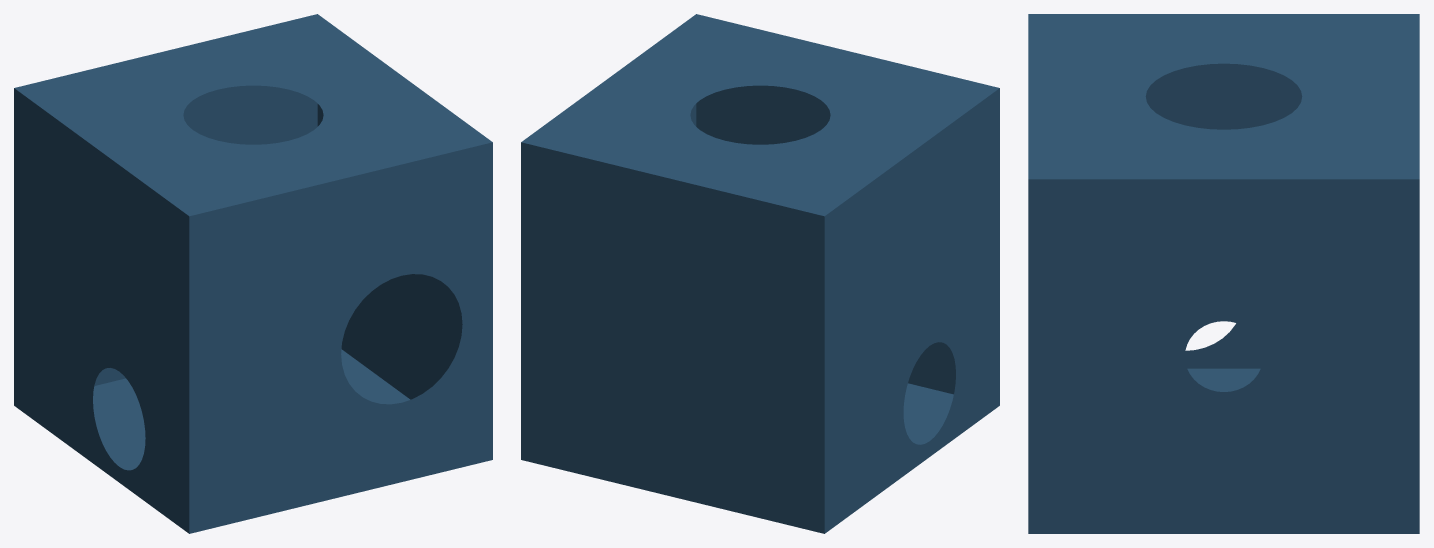
Rendered from Walls.fbx.
3 renders of one model, left to right at view 1: azimuth 30°, elevation 25°; view 2: azimuth 150°, elevation 25°; view 3: azimuth 270°, elevation 25°, orthographic. The views are drawn at different scales.
Parts seen in each view (by area): view 1: Box_holes; view 2: Box_holes; view 3: Box_holes.
Part boxes in pixels (left/top/right/bottom): Box_holes: left=14, top=14, right=492, bottom=533; Box_holes: left=521, top=14, right=999, bottom=533; Box_holes: left=1028, top=14, right=1419, bottom=533.
Bounding box in the file's own units: 99 × 99 × 99.
